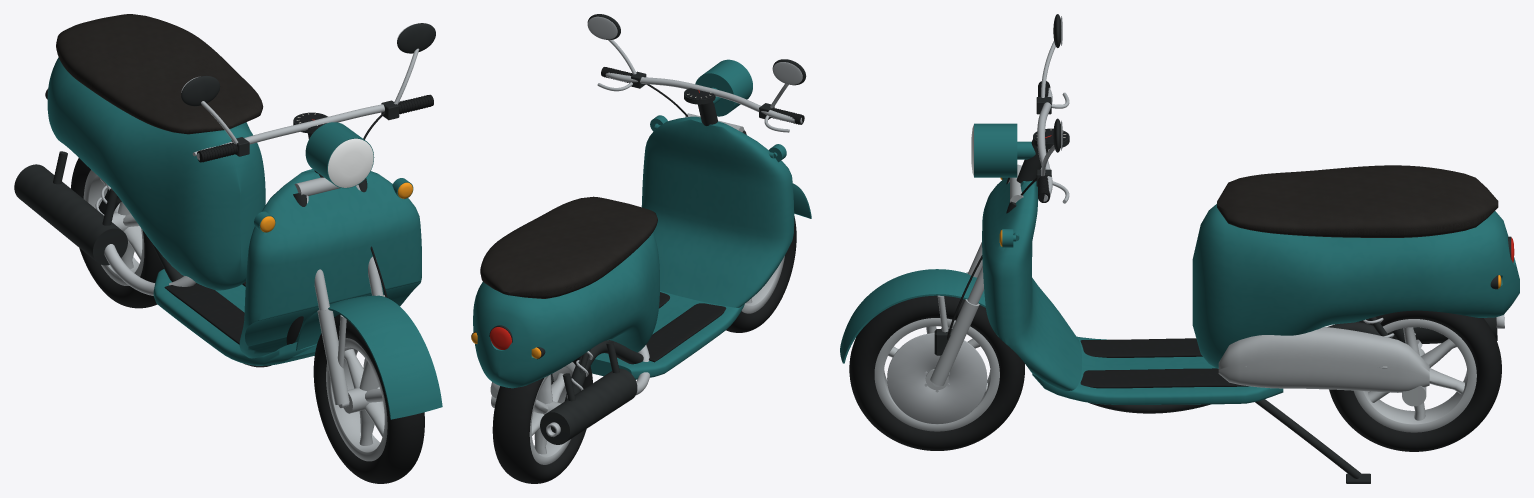
The model's file is UrbanScooter.obj.
3 renders of one model, left to right at view 1: azimuth 30°, elevation 25°; view 2: azimuth 150°, elevation 25°; view 3: azimuth 270°, elevation 25°, orthographic. The views are drawn at different scales.
Parts seen in each view (by area): view 1: Scooter_lofted_rear_body_with_real_wheel_opening, Scooter_shaped_leg_shield_with_front_wheel_clearance, Scooter_shaped_two-person_saddle, Scooter_front_curved_mudguard, Scooter_front_wheel_rounded_tyre_carcass, Scooter_muffler_closed_body, Scooter_closed_step-through_footboard, Scooter_rear_wheel_rounded_tyre_carcass, Scooter_front_wheel_turned_rim_and_bead_seats, Scooter_seated_footboard_grip_100, Scooter_headlamp_finite_curved_optic, Scooter_headlamp_closed_optical_housing (+11 smaller); view 2: Scooter_shaped_leg_shield_with_front_wheel_clearance, Scooter_lofted_rear_body_with_real_wheel_opening, Scooter_shaped_two-person_saddle, Scooter_rear_wheel_rounded_tyre_carcass, Scooter_muffler_closed_body, Scooter_closed_step-through_footboard, Scooter_seated_footboard_grip_100, Scooter_headlamp_closed_optical_housing, Scooter_front_wheel_rounded_tyre_carcass, Scooter_curved_handlebar, Scooter_underbone_frame_rail_95, Scooter_rear_wheel_turned_rim_and_bead_seats (+5 smaller); view 3: Scooter_lofted_rear_body_with_real_wheel_opening, Scooter_shaped_two-person_saddle, Scooter_shaped_leg_shield_with_front_wheel_clearance, Scooter_cast_automatic_transmission_case, Scooter_front_wheel_rounded_tyre_carcass, Scooter_rear_wheel_rounded_tyre_carcass, Scooter_front_wheel_finite_brake_rotor, Scooter_closed_step-through_footboard, Scooter_front_curved_mudguard, Scooter_rear_wheel_turned_rim_and_bead_seats, Scooter_front_wheel_turned_rim_and_bead_seats, Scooter_seated_footboard_grip_-100 (+5 smaller).
Part boxes in pixels (<box>): Scooter_lofted_rear_body_with_real_wheel_opening: <box>47,57,265,290</box>; Scooter_shaped_leg_shield_with_front_wheel_clearance: <box>239,169,421,358</box>; Scooter_shaped_two-person_saddle: <box>56,14,263,134</box>; Scooter_front_curved_mudguard: <box>296,295,442,419</box>; Scooter_front_wheel_rounded_tyre_carcass: <box>313,314,424,483</box>; Scooter_muffler_closed_body: <box>14,164,127,265</box>; Scooter_closed_step-through_footboard: <box>153,269,317,365</box>; Scooter_rear_wheel_rounded_tyre_carcass: <box>71,158,163,308</box>; Scooter_front_wheel_turned_rim_and_bead_seats: <box>326,338,387,461</box>; Scooter_seated_footboard_grip_100: <box>164,283,244,344</box>; Scooter_headlamp_finite_curved_optic: <box>328,138,373,187</box>; Scooter_headlamp_closed_optical_housing: <box>305,122,374,188</box>; Scooter_shaped_leg_shield_with_front_wheel_clearance: <box>641,116,794,307</box>; Scooter_lofted_rear_body_with_real_wheel_opening: <box>473,232,659,388</box>; Scooter_shaped_two-person_saddle: <box>480,196,657,298</box>; Scooter_rear_wheel_rounded_tyre_carcass: <box>492,357,592,483</box>; Scooter_muffler_closed_body: <box>540,368,637,444</box>; Scooter_closed_step-through_footboard: <box>590,291,744,379</box>; Scooter_seated_footboard_grip_100: <box>646,303,726,362</box>; Scooter_headlamp_closed_optical_housing: <box>695,59,752,116</box>; Scooter_front_wheel_rounded_tyre_carcass: <box>726,216,796,332</box>; Scooter_curved_handlebar: <box>605,72,802,123</box>; Scooter_underbone_frame_rail_95: <box>564,130,746,401</box>; Scooter_rear_wheel_turned_rim_and_bead_seats: <box>529,362,575,464</box>; Scooter_lofted_rear_body_with_real_wheel_opening: <box>1192,204,1519,368</box>; Scooter_shaped_two-person_saddle: <box>1217,165,1498,237</box>; Scooter_shaped_leg_shield_with_front_wheel_clearance: <box>982,177,1081,390</box>; Scooter_cast_automatic_transmission_case: <box>1218,327,1429,392</box>; Scooter_front_wheel_rounded_tyre_carcass: <box>849,295,1024,450</box>; Scooter_rear_wheel_rounded_tyre_carcass: <box>1329,310,1501,451</box>; Scooter_front_wheel_finite_brake_rotor: <box>887,333,987,424</box>; Scooter_closed_step-through_footboard: <box>1032,336,1283,404</box>; Scooter_front_curved_mudguard: <box>840,269,985,363</box>; Scooter_rear_wheel_turned_rim_and_bead_seats: <box>1354,319,1476,432</box>; Scooter_front_wheel_turned_rim_and_bead_seats: <box>874,318,999,431</box>; Scooter_seated_footboard_grip_-100: <box>1080,368,1248,388</box>.
Bounding box in the file's own units: 0.814 × 1.17 × 1.9.
Materials: 13 (13 with a texture image).
